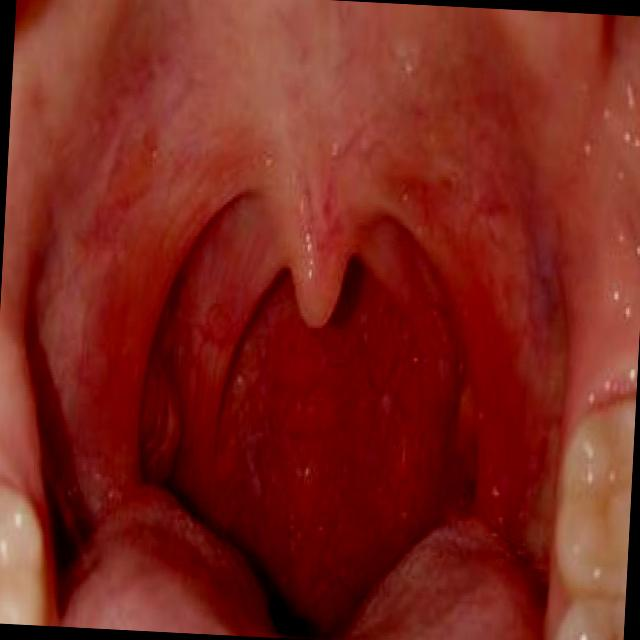Non Pharyngitis: (233, 104, 412, 379), (64, 258, 216, 554), (452, 214, 584, 522)
